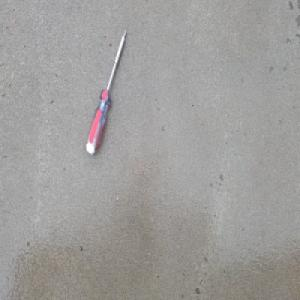Screwdriver: (84, 26, 127, 157)
